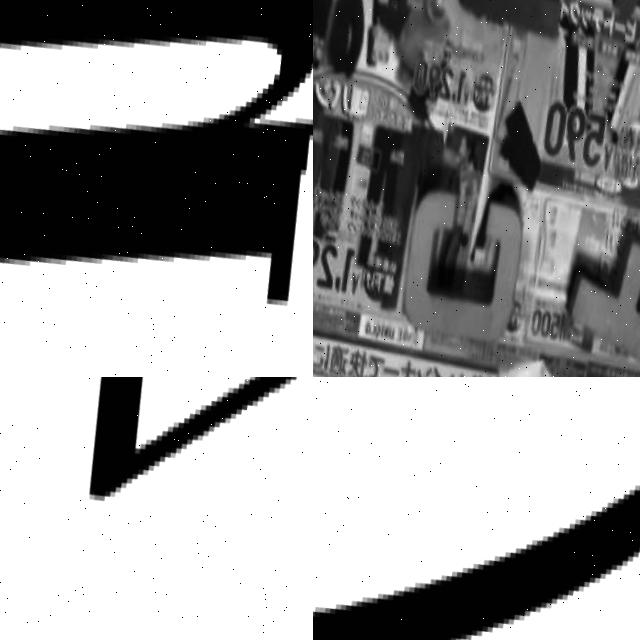7: (313, 377, 640, 640)
C: (389, 188, 528, 347)
F: (546, 219, 640, 377)
N: (0, 0, 313, 363)
W: (442, 0, 588, 41)
